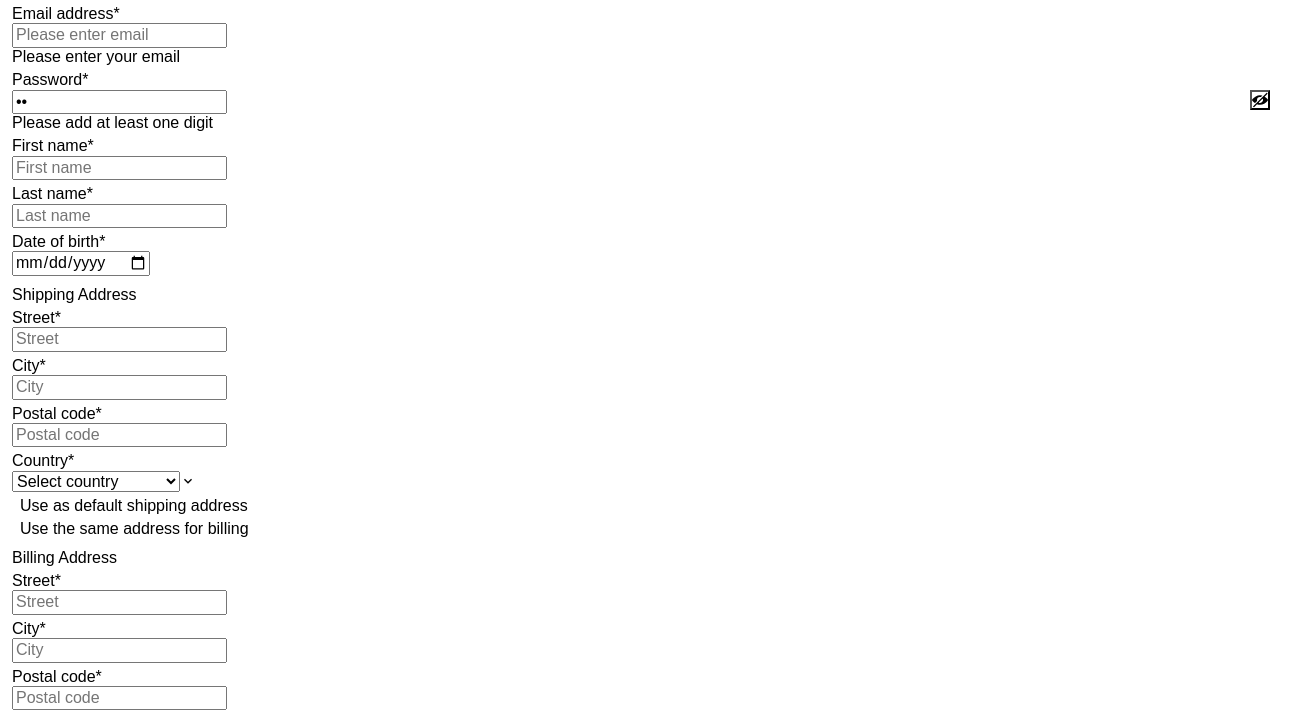
Scenario: SignUpForm › should say if password doesn't contain at least one special character
In the password field with placeholder "Create a password": (120, 102) x1=12 y1=90 x2=227 y2=114, type "Aa1"
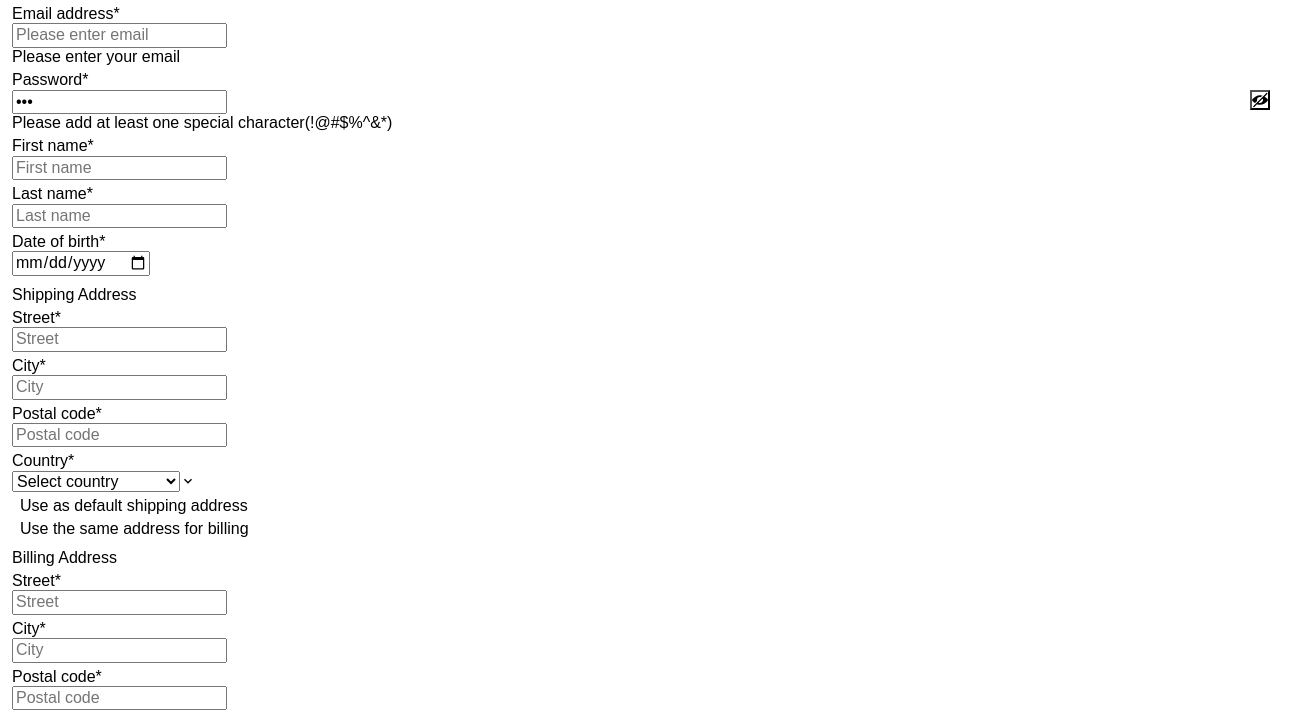
Check: the text "Please add at least one special character(!@#$%^&*)" is shown, box x1=12 y1=114 x2=392 y2=131
